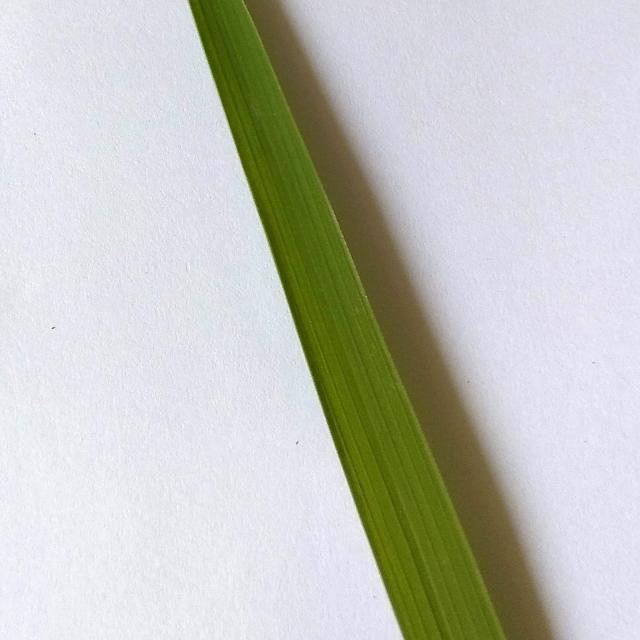healthy: (169, 0, 506, 640)
